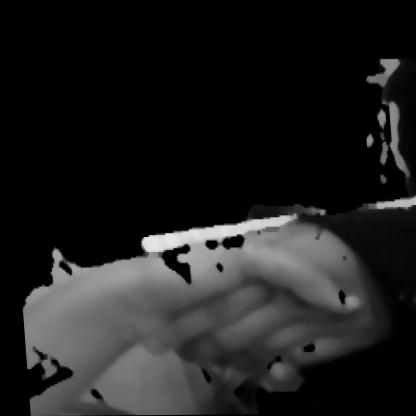handshake: (33, 181, 415, 414)
